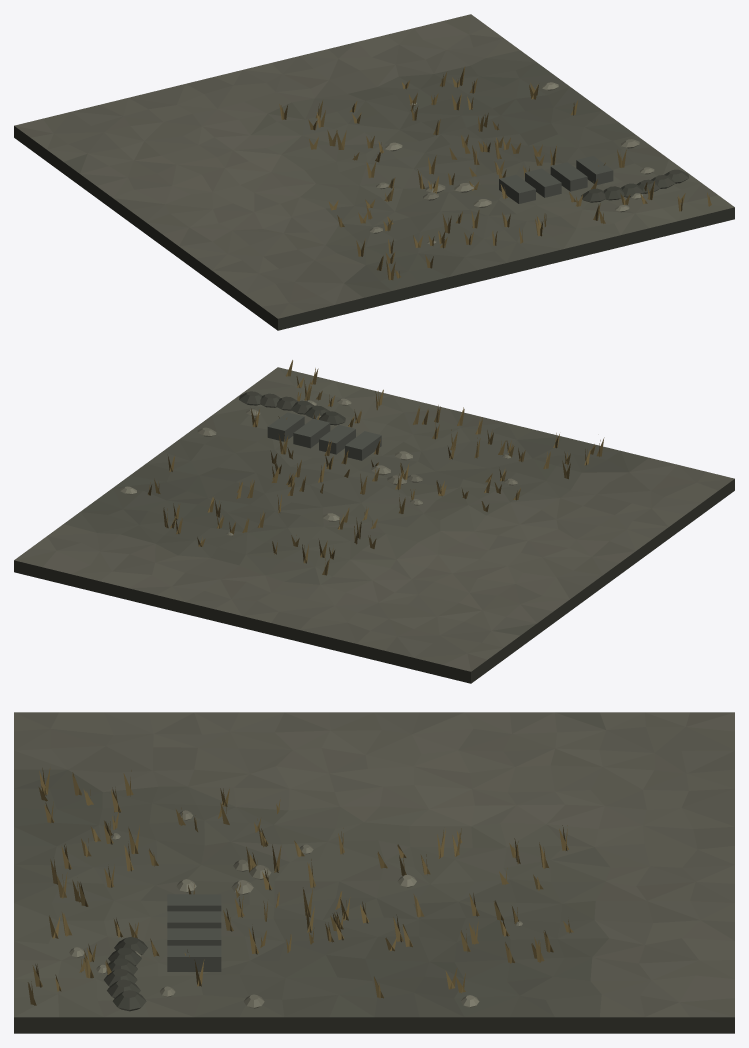
The model's file is CHUNK_oath_battlefield__broken_standards__11.glb.
The picture shows the model from 3 angles, top to bottom: view 1: azimuth 30°, elevation 25°; view 2: azimuth 150°, elevation 25°; view 3: azimuth 270°, elevation 25°; orthographic projection. The views are drawn at different scales.
Visible parts, largest first — view 1: CHUNK_oath_battlefield__broken_standards__11; view 2: CHUNK_oath_battlefield__broken_standards__11; view 3: CHUNK_oath_battlefield__broken_standards__11.
Part boxes in pixels (bbox=[...]): CHUNK_oath_battlefield__broken_standards__11: bbox=[14, 14, 734, 330]; CHUNK_oath_battlefield__broken_standards__11: bbox=[14, 360, 734, 683]; CHUNK_oath_battlefield__broken_standards__11: bbox=[14, 712, 734, 1033].
Size of the model in its own units: 8 by 0.554 by 8.
